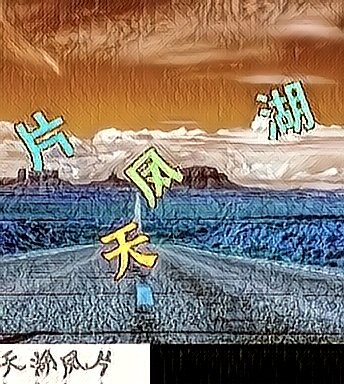B7EF: (121, 143, 185, 209)
BAFE: (252, 79, 316, 145)
C6AC: (11, 107, 75, 173)
CCEC: (95, 219, 159, 285)
